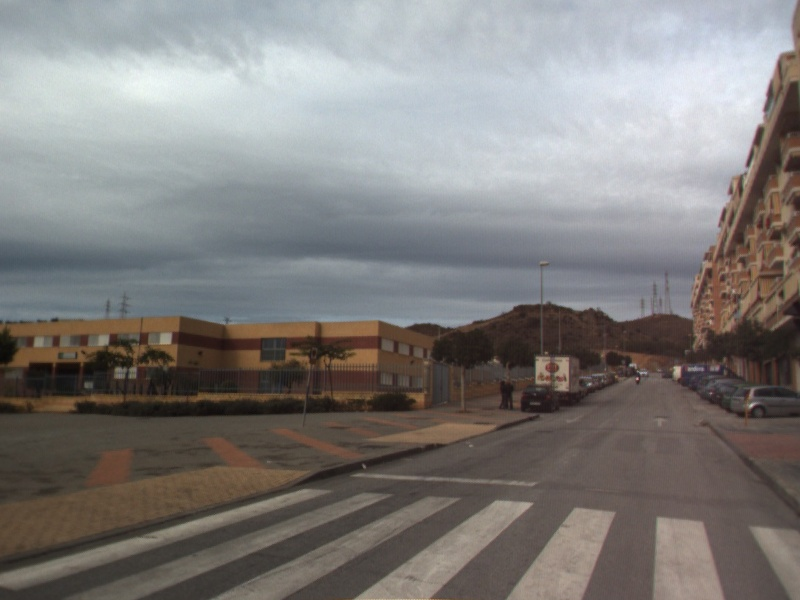STRAIGHT: (651, 415, 670, 428)
